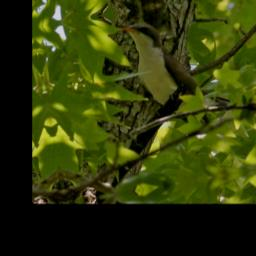Cuckoo: (114, 6, 235, 138)
